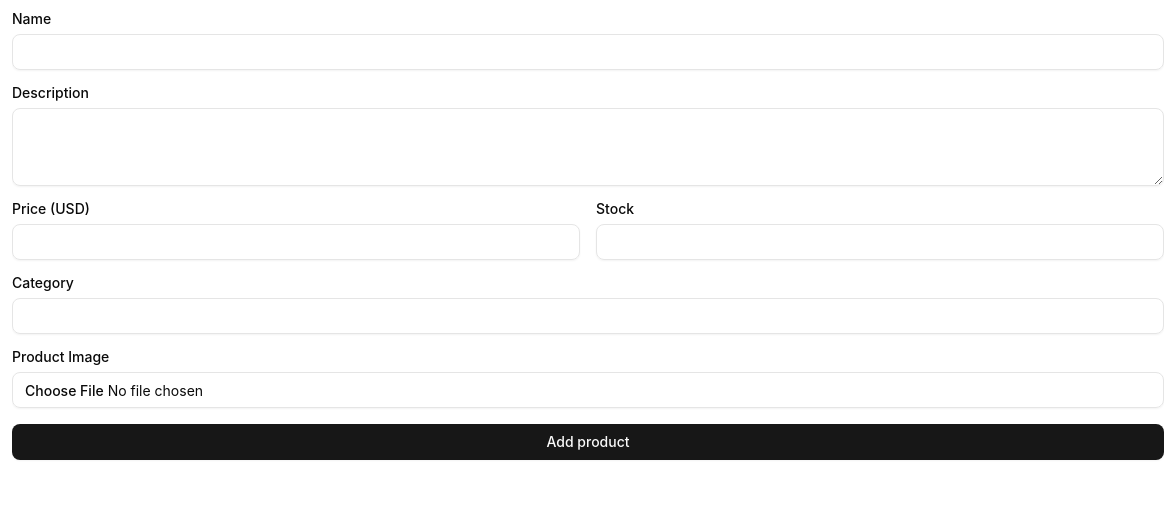
Test: ProductForm › shows a validation error for negative stock
In the field labelled "Name": {"x": 588, "y": 52} [12,34,1164,70], type "Valid Name"
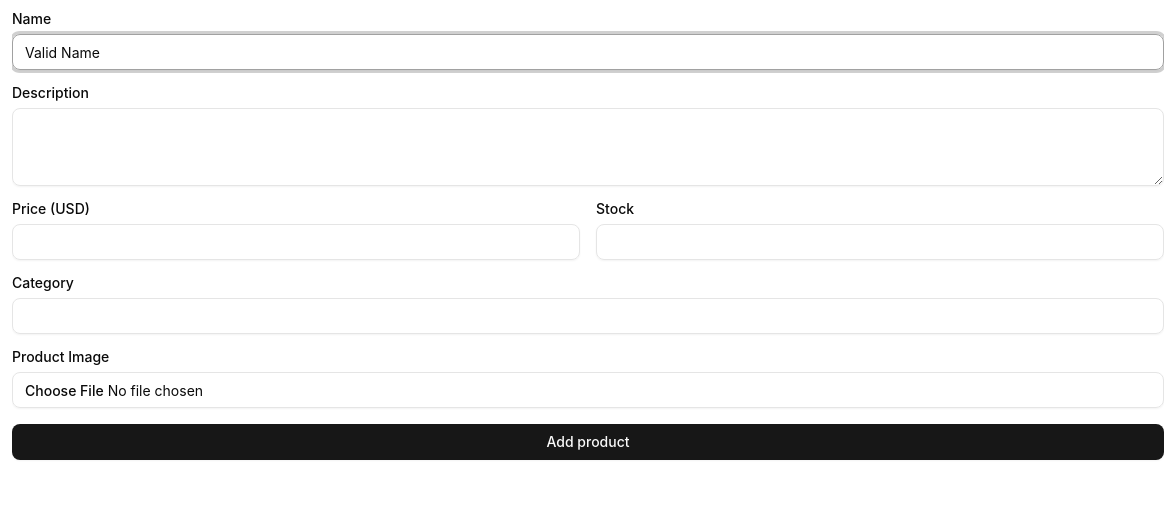
In the number field labelled "Price (USD)": {"x": 296, "y": 242} [12,224,580,260], type "10"
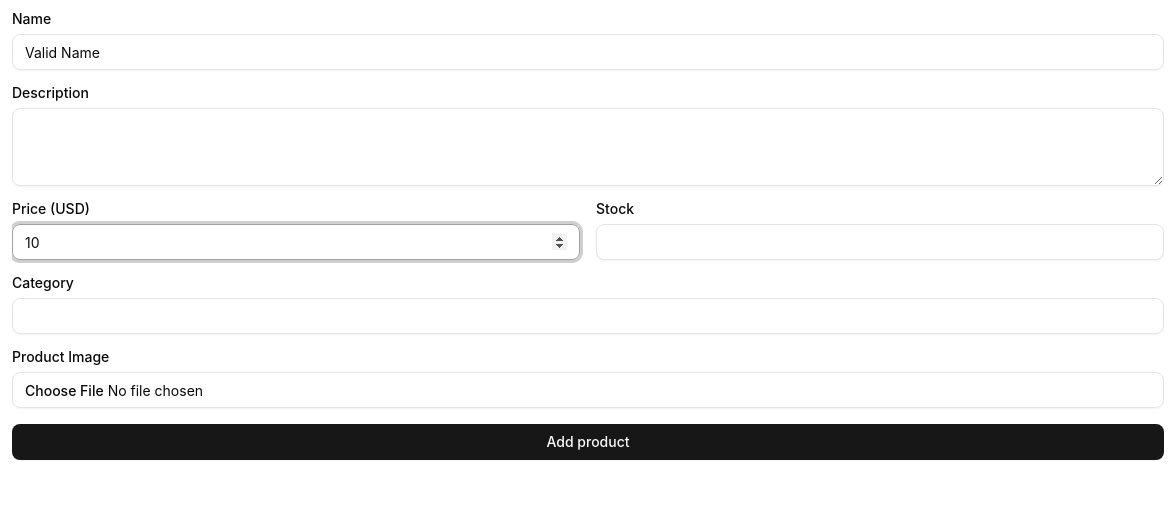
In the number field labelled "Stock": {"x": 880, "y": 242} [596,224,1164,260], type "-1"
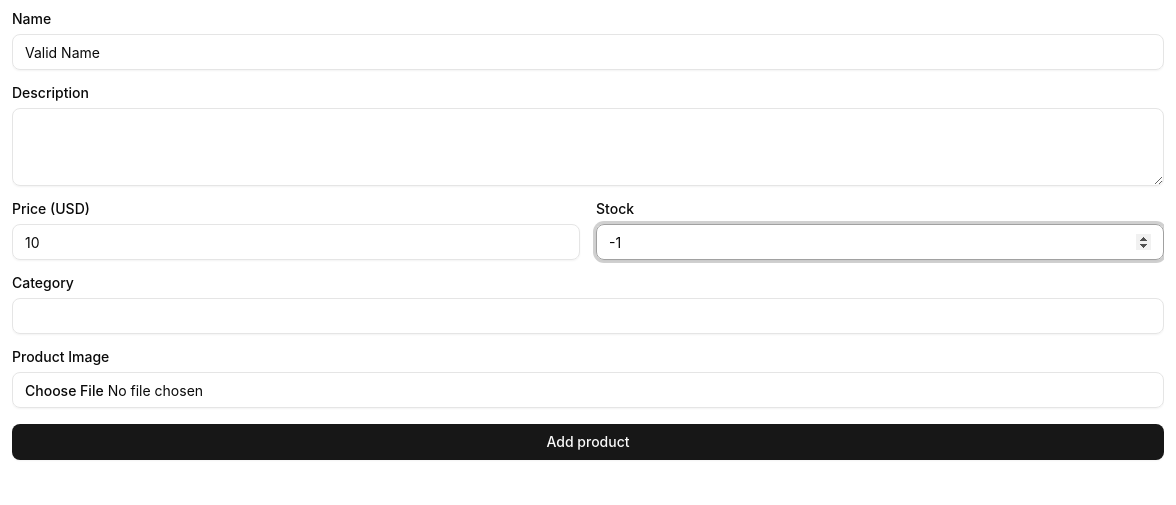
In the field labelled "Category": {"x": 588, "y": 316} [12,298,1164,334], type "misc"
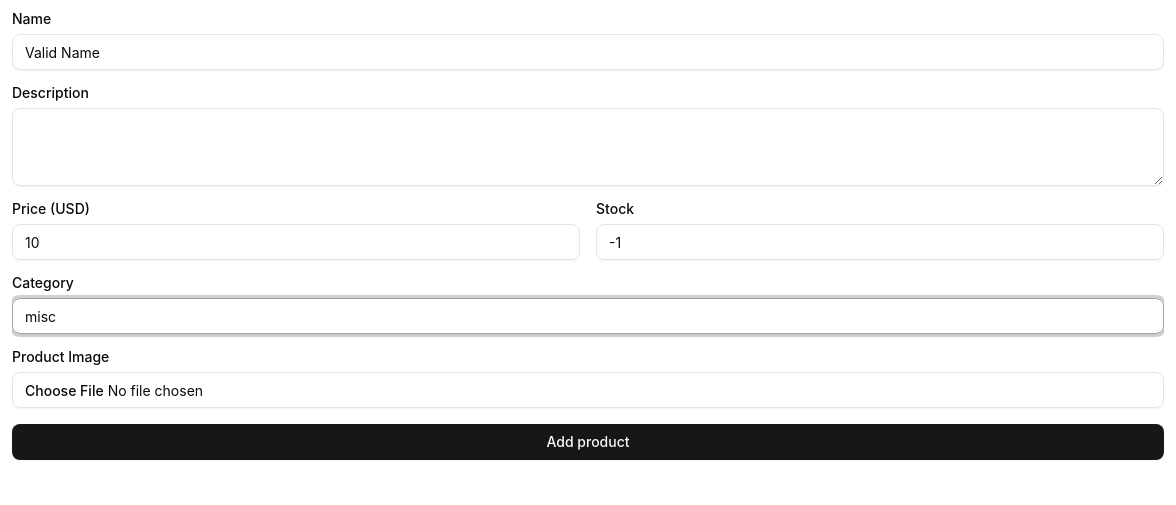
Click the button "Add product": {"x": 588, "y": 442} [12,424,1164,460]
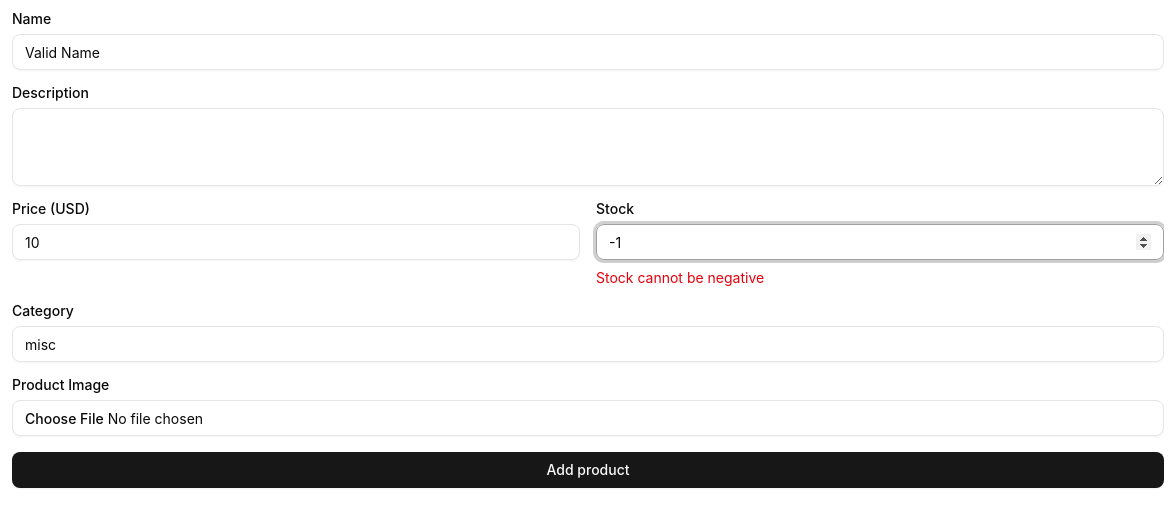
Now the text "Stock cannot be negative" is shown, box [596,269,764,286]
